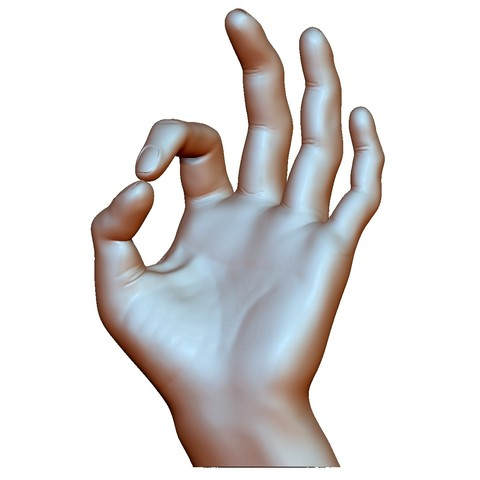oksign: (88, 11, 351, 403)
